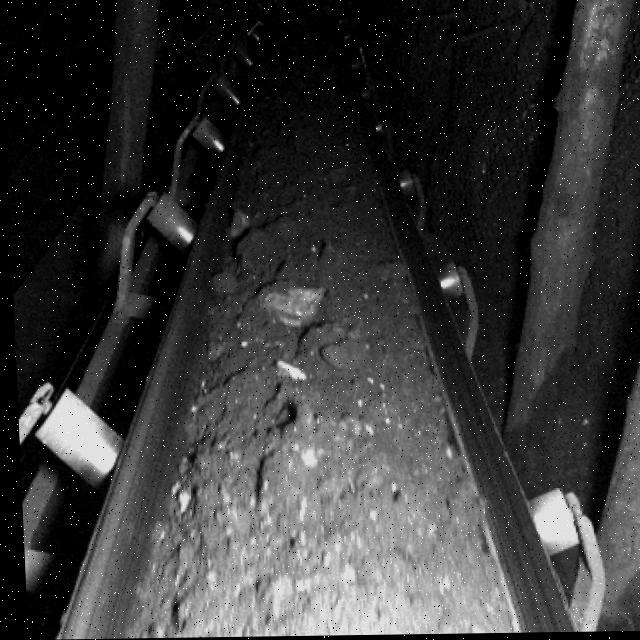large_sized_coal: (256, 282, 326, 329)
